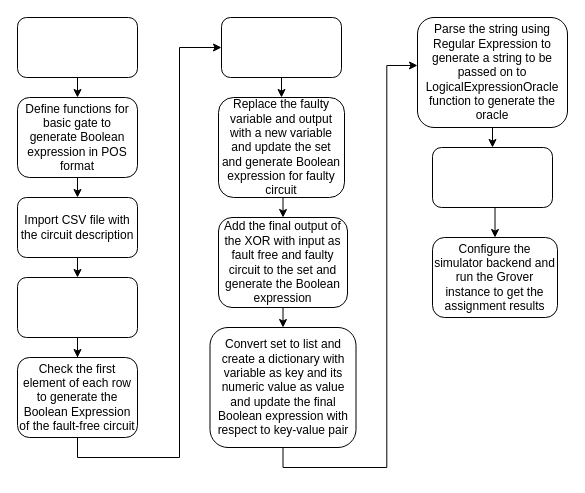
The diagram is 585 pixels wide and 493 high, and some of its shapes have lost their labels. Each missing label, with the box of its shape:
Add all the variables to a set: (16, 276, 138, 338)
Define a function to find the Boolean Expression for faulty circuit: (220, 16, 342, 78)
Grover instance is created using the oracle: (432, 146, 552, 208)
Import all Quantum Libraries in the workspace: (16, 16, 138, 78)
